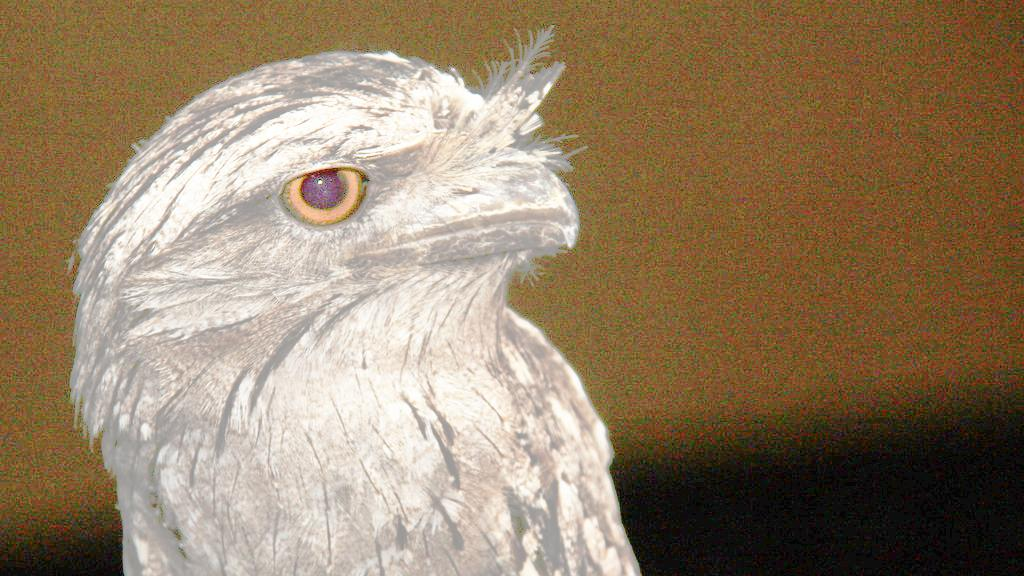Owl: (66, 32, 641, 576)
